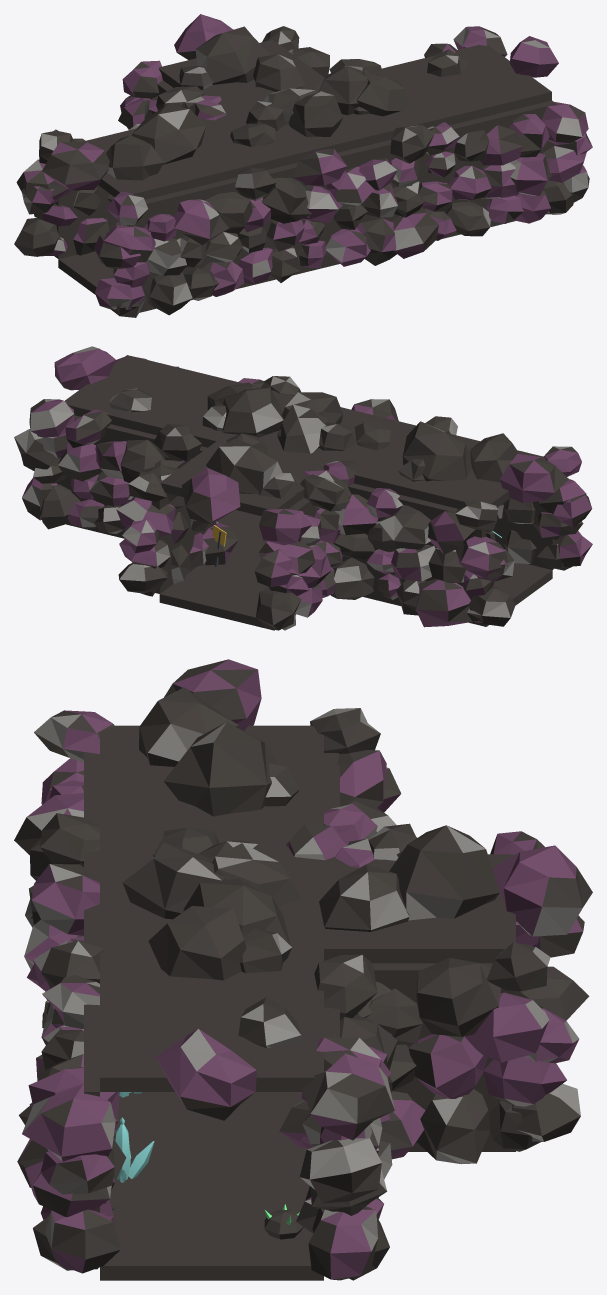
Rendered from Cave_Crystal_Junction.fbx.
The picture shows the model from 3 angles, top to bottom: view 1: azimuth 30°, elevation 25°; view 2: azimuth 150°, elevation 25°; view 3: azimuth 270°, elevation 25°; orthographic projection. The views are drawn at different scales.
Parts seen in each view (by area): view 1: Decor, Ceiling2, Wall3, Ceiling1, Floor2, Wall1; view 2: Decor, Ceiling2, Floor1, Floor2, Ceiling1, Wall1, Wall3, Wall4, Wall2; view 3: Decor, Ceiling2, Floor2, Ceiling1, Wall3, Wall4, Wall1.
Boxes of the visible parts, x1,y1,x2,y2 form: Decor: [14, 14, 592, 317]; Ceiling2: [80, 45, 551, 199]; Wall3: [127, 100, 556, 308]; Ceiling1: [158, 40, 323, 107]; Floor2: [58, 220, 515, 312]; Wall1: [54, 185, 118, 258]; Decor: [14, 346, 592, 630]; Ceiling2: [65, 355, 545, 508]; Floor1: [159, 556, 295, 630]; Floor2: [65, 510, 552, 626]; Ceiling1: [160, 441, 324, 515]; Wall1: [342, 483, 486, 601]; Wall3: [486, 499, 554, 569]; Wall4: [151, 496, 213, 593]; Wall2: [56, 415, 216, 534]; Decor: [14, 659, 592, 1280]; Ceiling2: [100, 725, 323, 1091]; Floor2: [100, 1092, 323, 1280]; Ceiling1: [324, 854, 515, 963]; Wall3: [84, 752, 99, 1212]; Wall4: [372, 963, 515, 1144]; Wall1: [324, 753, 339, 830].
Bounding box in the file's own units: 61.94 × 18.53 × 36.17.
